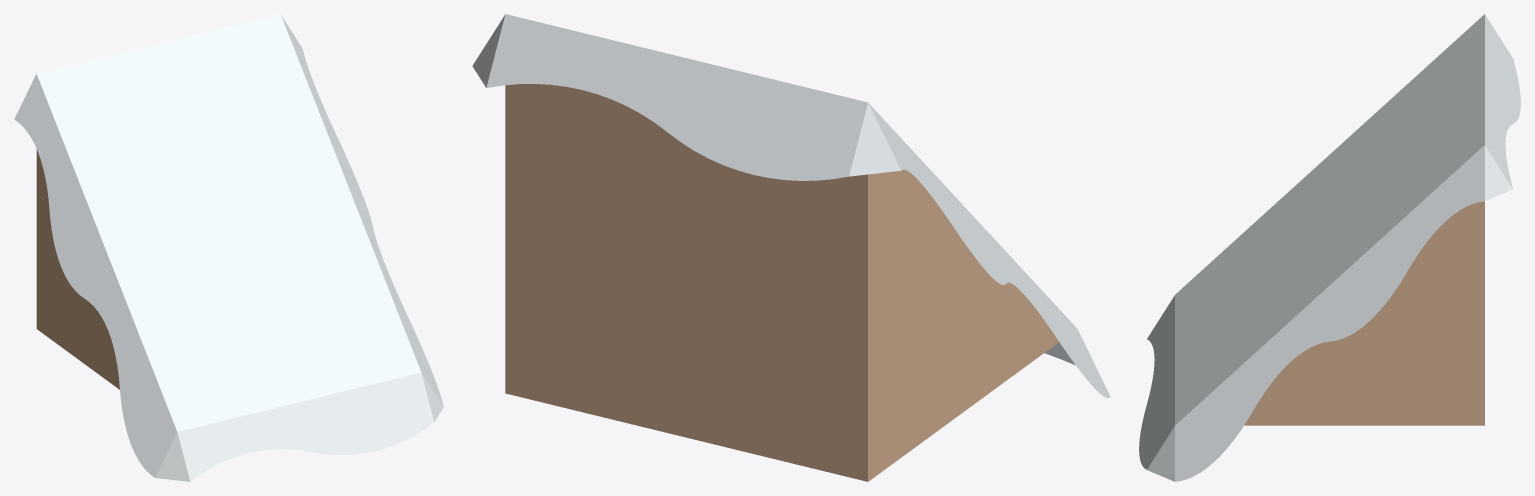
The picture shows the model from 3 angles, left to right: view 1: azimuth 30°, elevation 25°; view 2: azimuth 150°, elevation 25°; view 3: azimuth 270°, elevation 25°; orthographic projection. The views are drawn at different scales.
Parts seen in each view (by area): view 1: blockSnowSlope; view 2: blockSnowSlope; view 3: blockSnowSlope.
Boxes of the visible parts, x1=… form: blockSnowSlope: x1=14, y1=14, x2=443, y2=481; blockSnowSlope: x1=472, y1=14, x2=1110, y2=481; blockSnowSlope: x1=1139, y1=14, x2=1520, y2=481.
Bounding box in the file's own units: 1.23 × 1.2 × 1.23.
